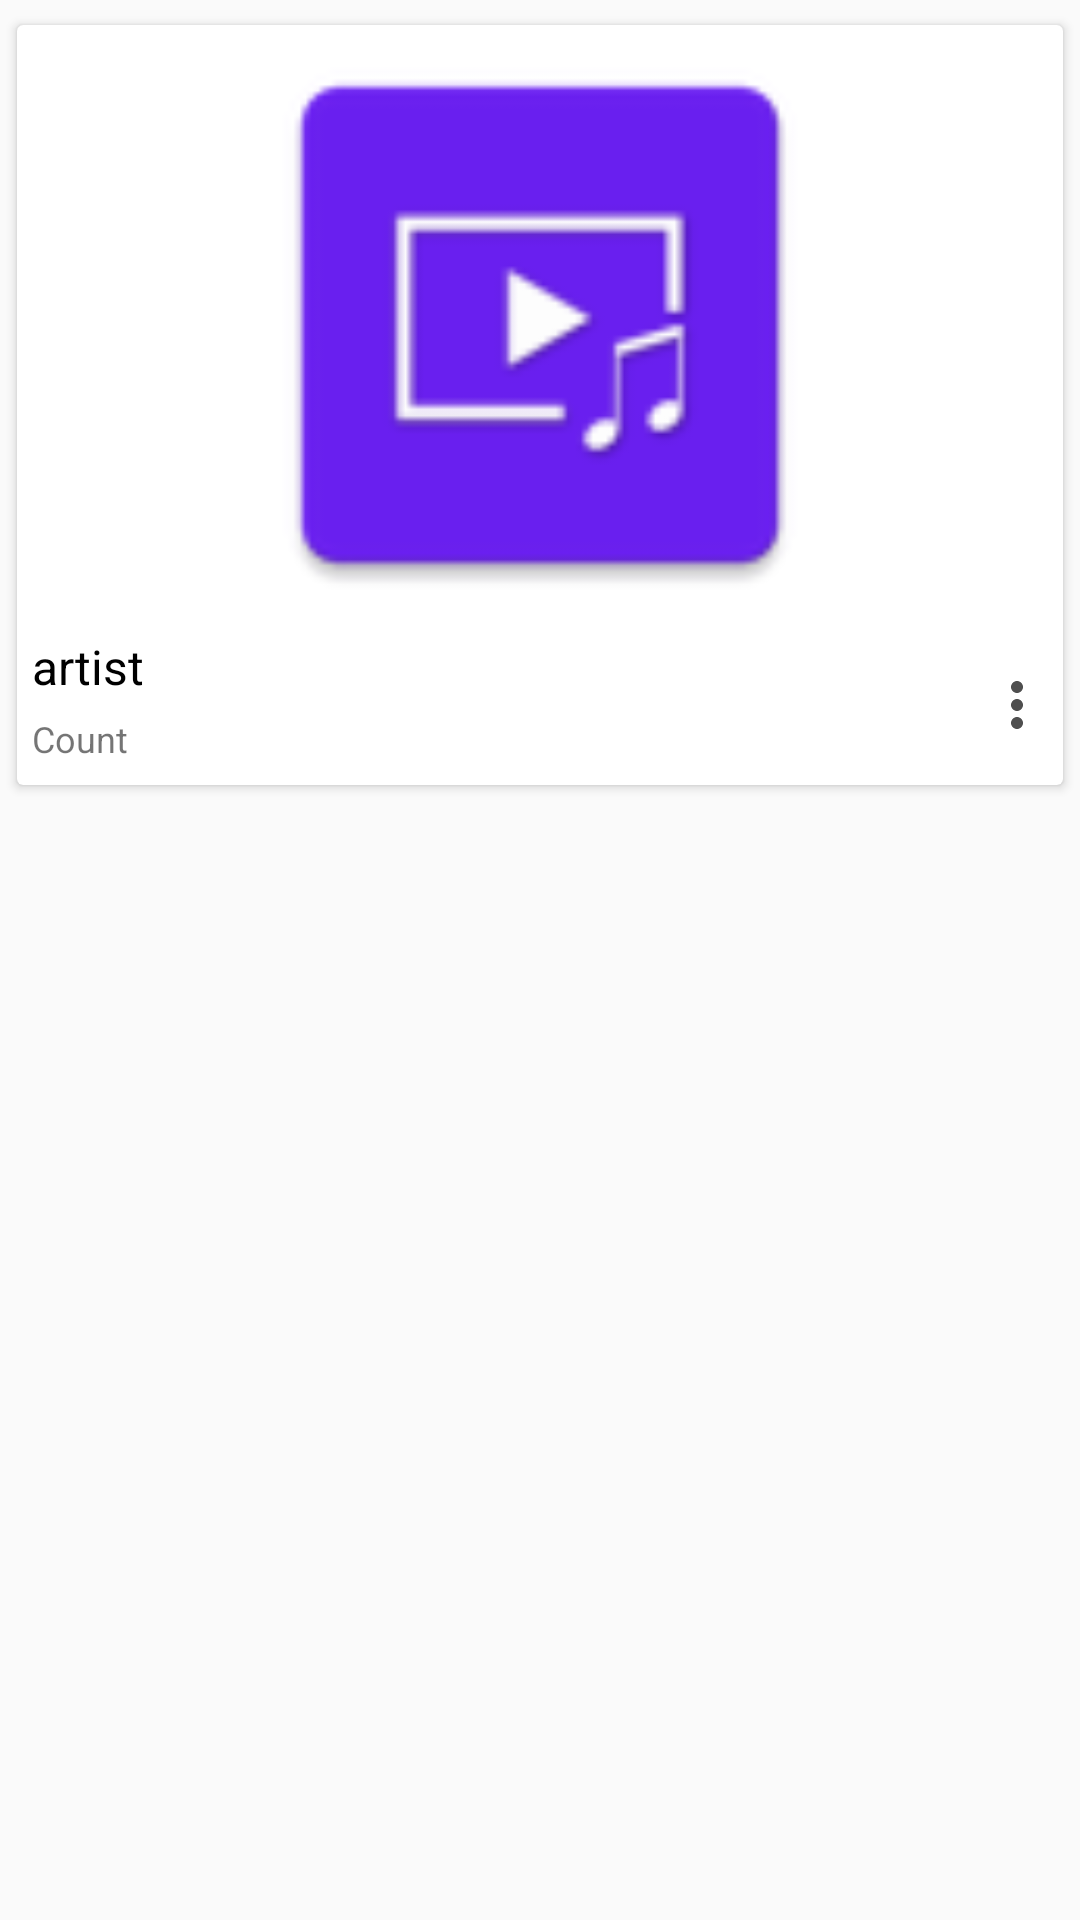

Screen size 1080 x 1920. Icon name, then its center in pixels as (x=x, y=y):
more vert: (x=1017, y=705)
